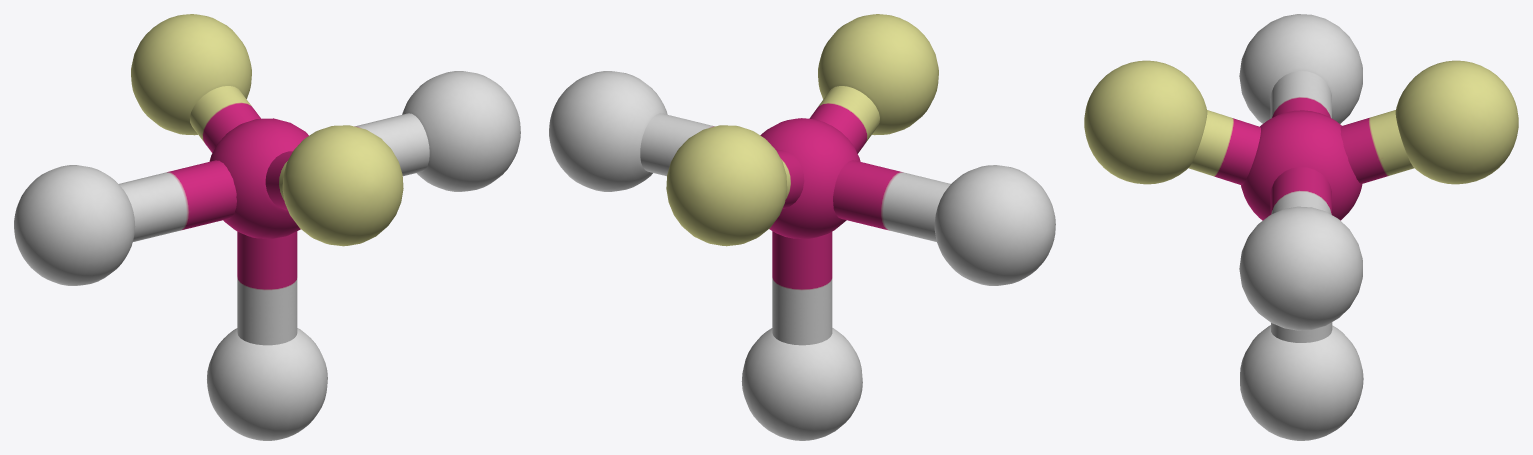
3 renders of one model, left to right at view 1: azimuth 30°, elevation 25°; view 2: azimuth 150°, elevation 25°; view 3: azimuth 270°, elevation 25°, orthographic. The views are drawn at different scales.
Parts seen in each view (by area): view 1: TShapeBond; view 2: TShapeBond; view 3: TShapeBond.
Boxes of the visible parts, x1,y1,x2,y2 form: TShapeBond: [14, 14, 520, 440]; TShapeBond: [549, 14, 1055, 440]; TShapeBond: [1084, 14, 1518, 440].
Bounding box in the file's own units: 95.6 × 67.02 × 71.58.
Materials: 1 (1 with a texture image).
